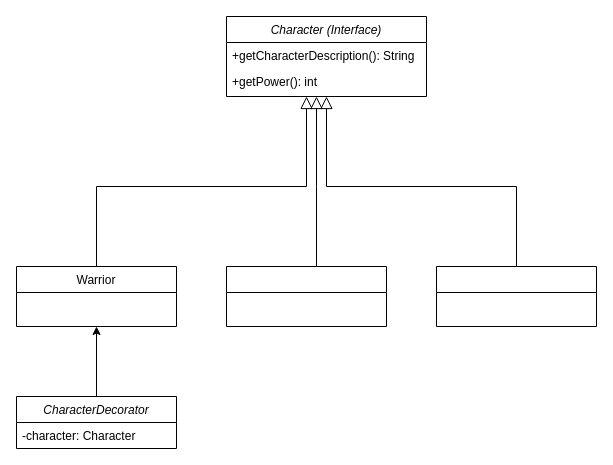
Image size: 613x465. Some labels were removed from this diagram. Here are the shapes that lost their labels. From the top down, the centre of each, then its label:
At (306,296): "Archer".
At (516,296): "Mage".
